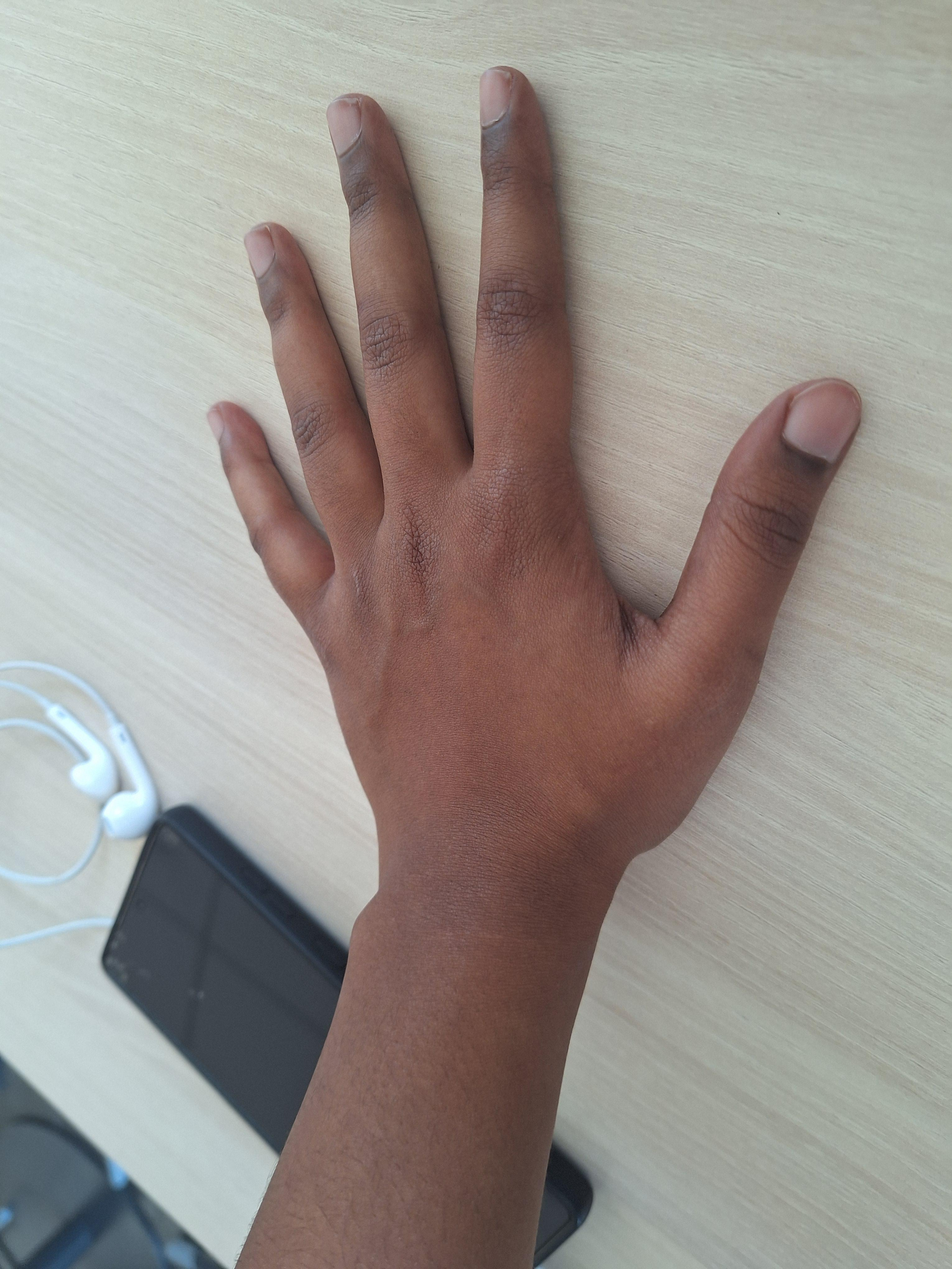Fingernail: (783, 380, 862, 464), (326, 99, 361, 155), (479, 70, 511, 126), (244, 226, 275, 278), (206, 409, 225, 442)
